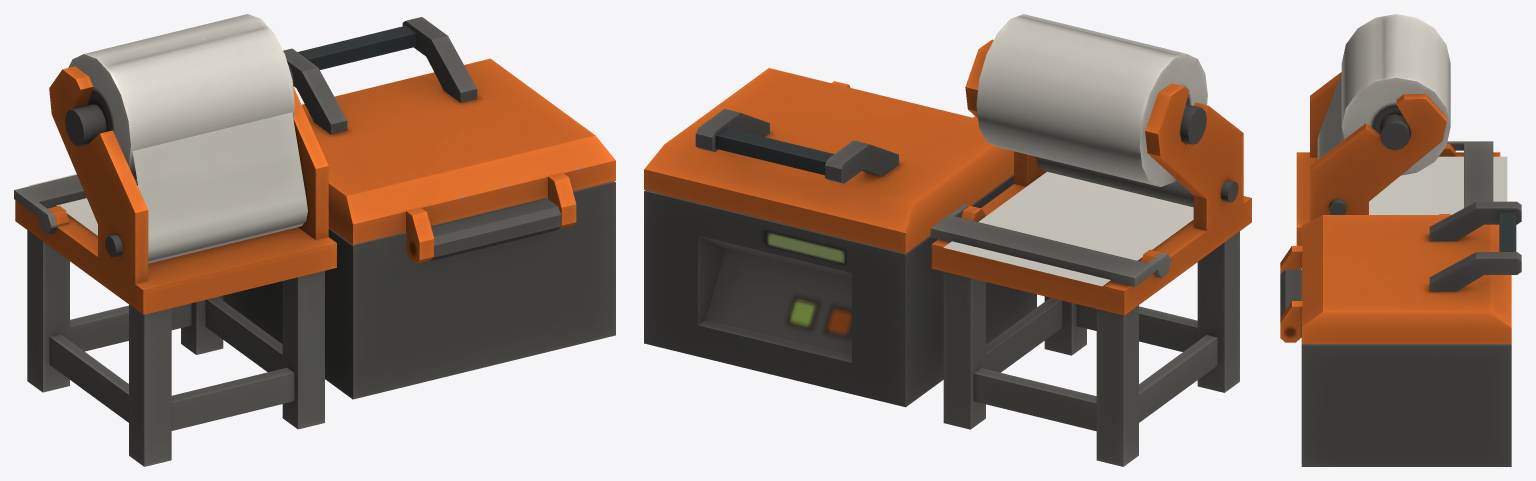
The model's file is stanok upakovka.fbx.
3 views of the same model, side by side, from view 1: azimuth 30°, elevation 25°; view 2: azimuth 150°, elevation 25°; view 3: azimuth 270°, elevation 25° (orthographic). The views are drawn at different scales.
Visible parts, largest first — view 1: Box027, Object042; view 2: Box027, Object042; view 3: Box027, Object042.
Part boxes in pixels (x1=…): Box027: x1=14, y1=14, x2=615, y2=466; Object042: x1=283, y1=17, x2=615, y2=263; Box027: x1=644, y1=14, x2=1251, y2=466; Object042: x1=644, y1=68, x2=1013, y2=253; Box027: x1=1280, y1=14, x2=1511, y2=466; Object042: x1=1280, y1=201, x2=1521, y2=343.
Size of the model in its own units: 76.35 by 55.02 by 41.6.
